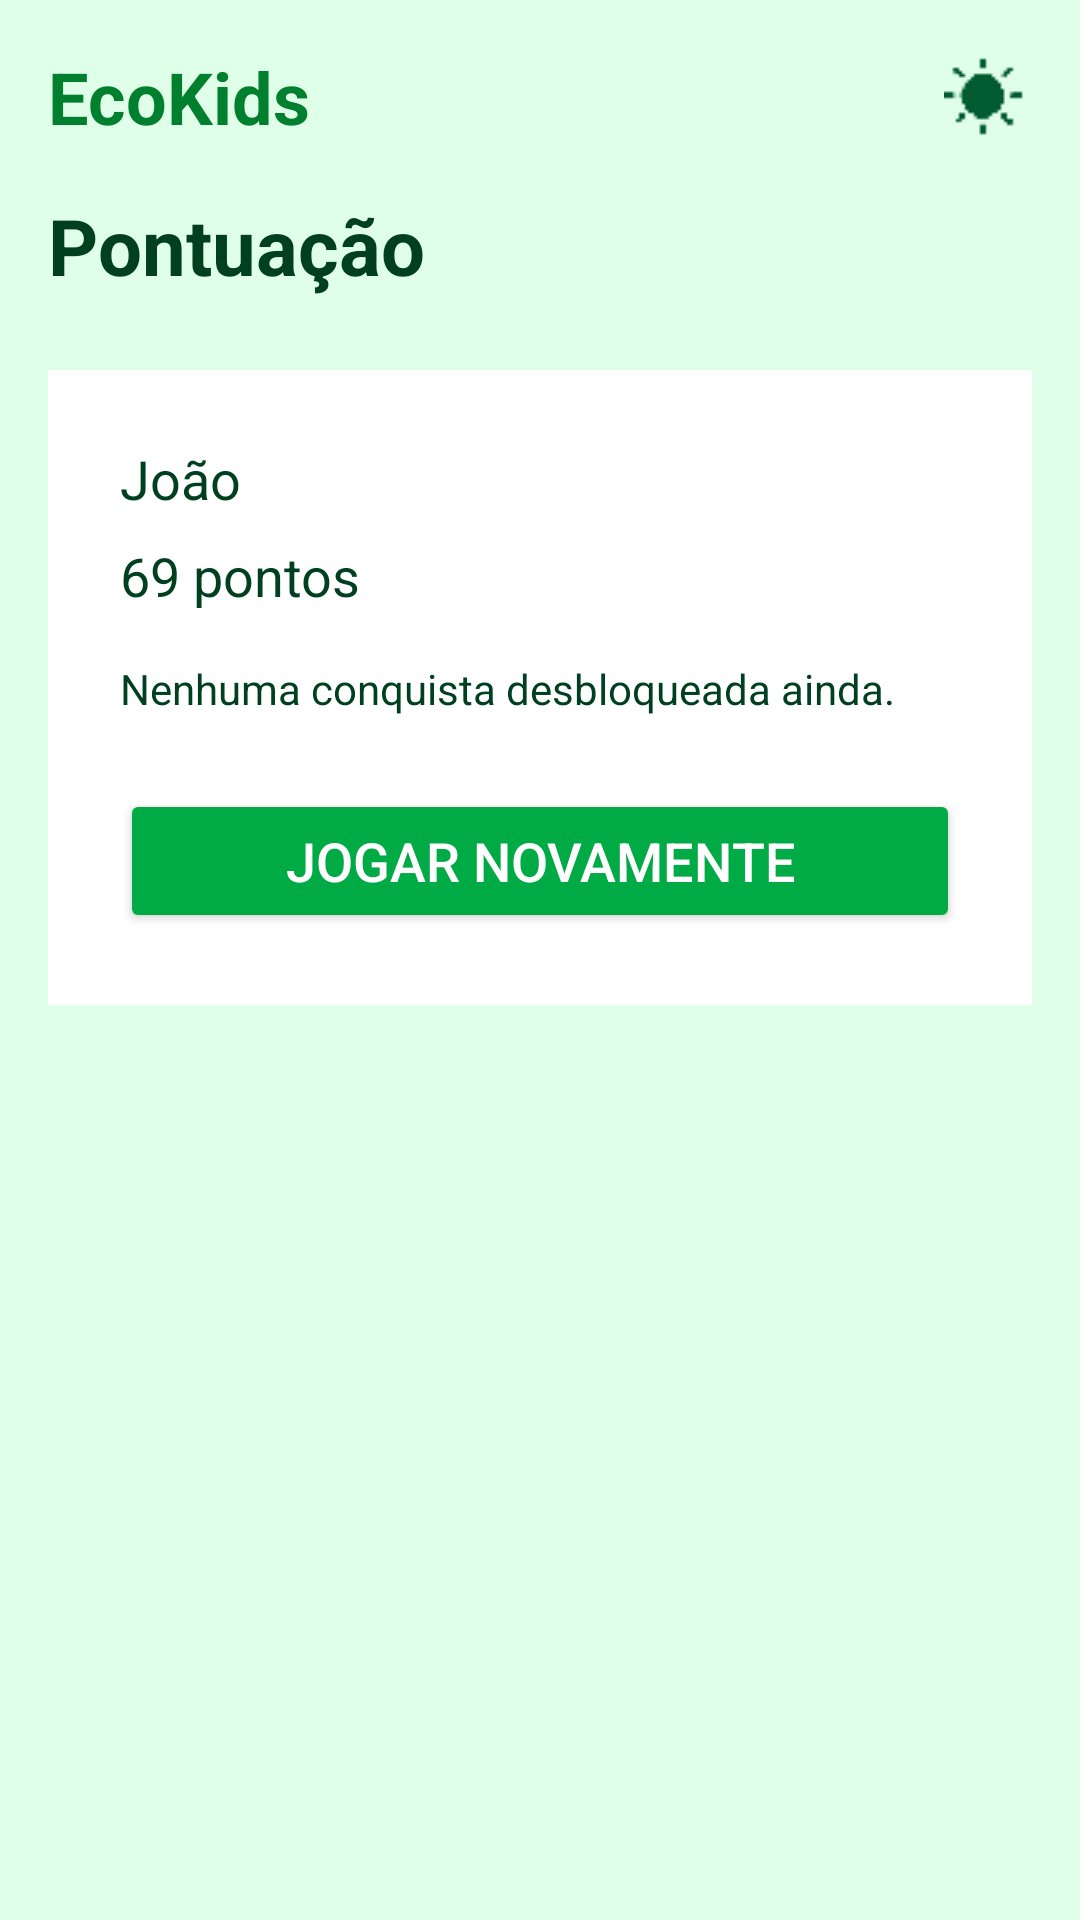

Where to tap for icons on this 1080×1920 app screen, as point (x, y):
mode: point (983, 96)
